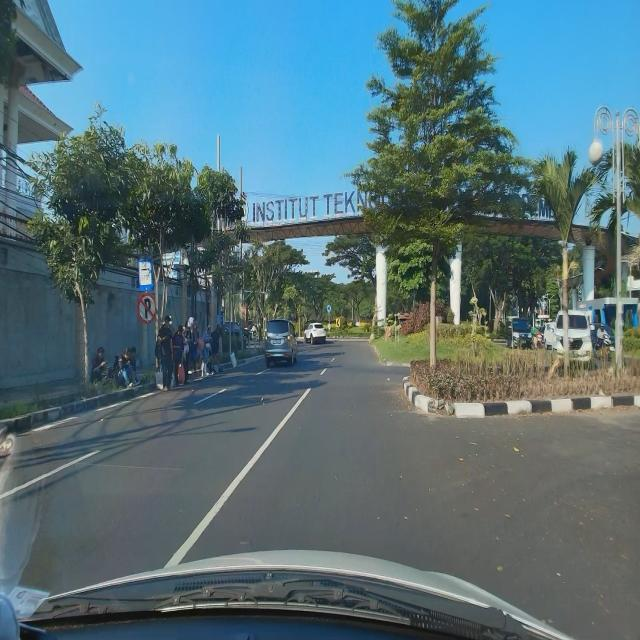car: (264, 319, 298, 368)
